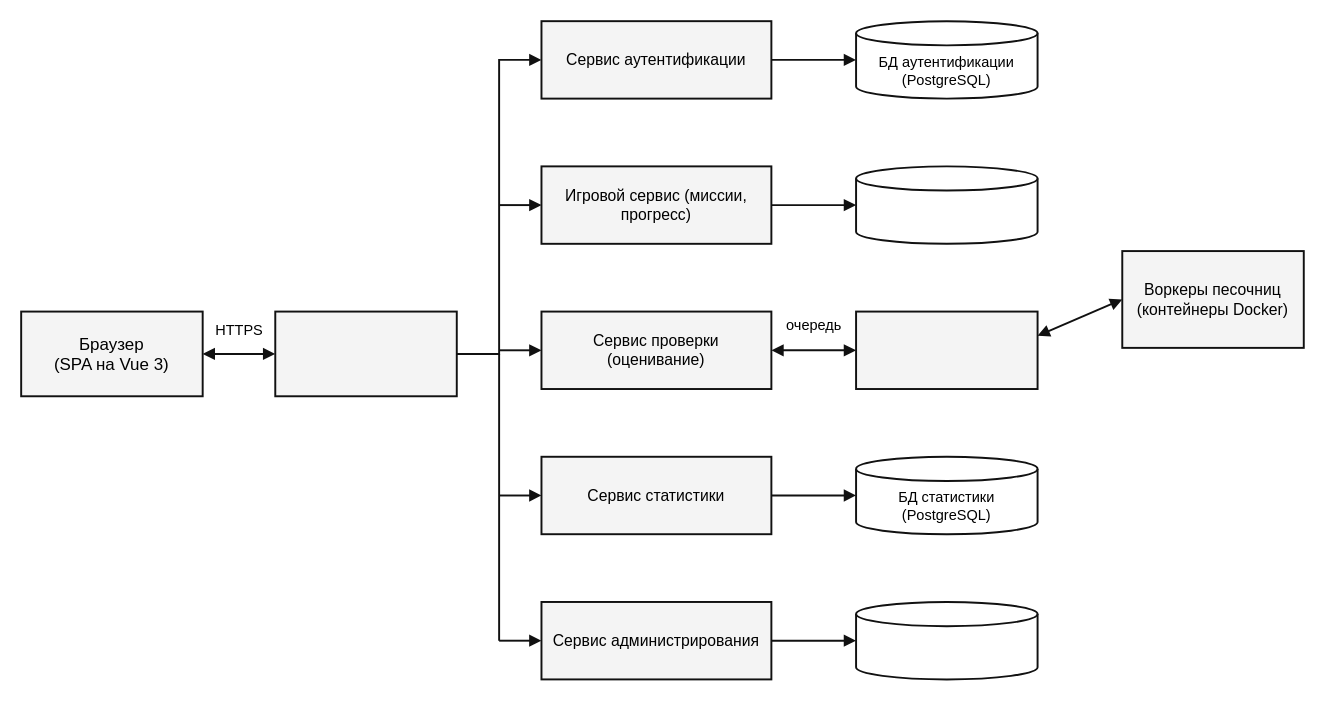
This 1326x702 diagram has some shape labels left out. The shapes that lost their labels are listed below. From the top down, each one's centre as x and y in pixels, then its label:
point (946, 204): БД игры (PostgreSQL)
point (365, 353): API Gateway (Nginx, TLS)
point (946, 349): Брокер сообщений (RabbitMQ)
point (946, 640): БД настроек (PostgreSQL)
